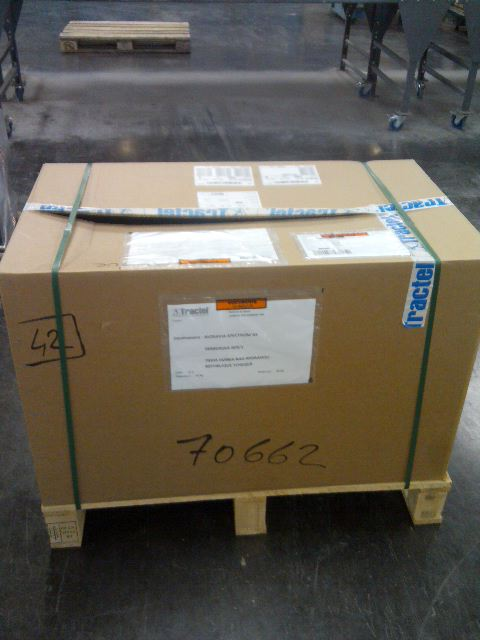label: (163, 298, 319, 396), (118, 229, 282, 265), (295, 227, 415, 261), (190, 165, 256, 190), (255, 164, 321, 185), (196, 190, 262, 211)
package: (0, 156, 480, 508)
